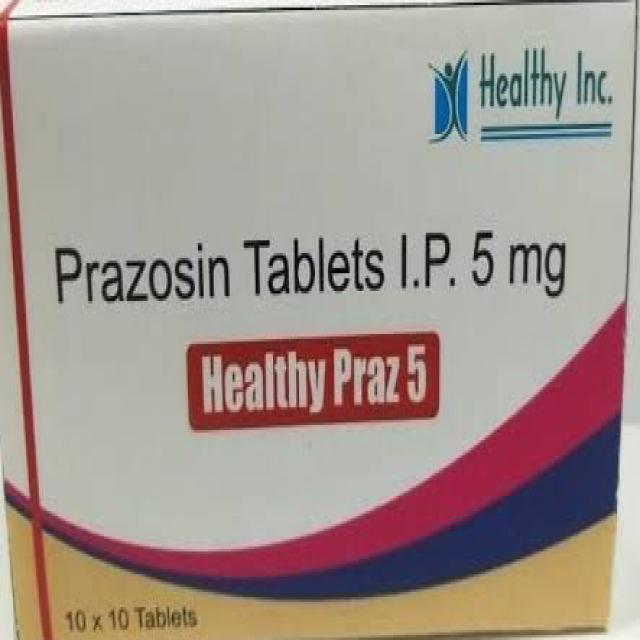drug-name: (199, 343, 428, 414)
